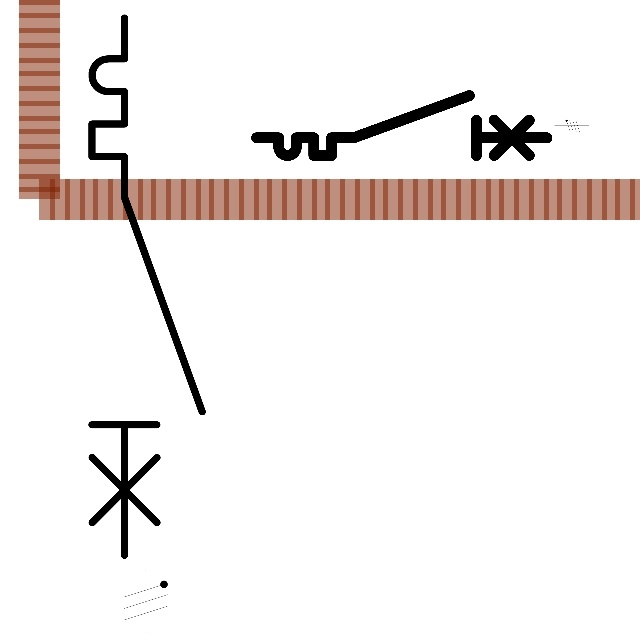interruptor_termomagnetico: (78, 4, 216, 569), (249, 88, 555, 163)
